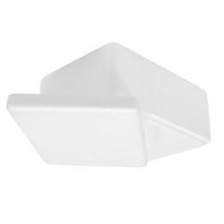foam_box: (1, 39, 216, 175)
